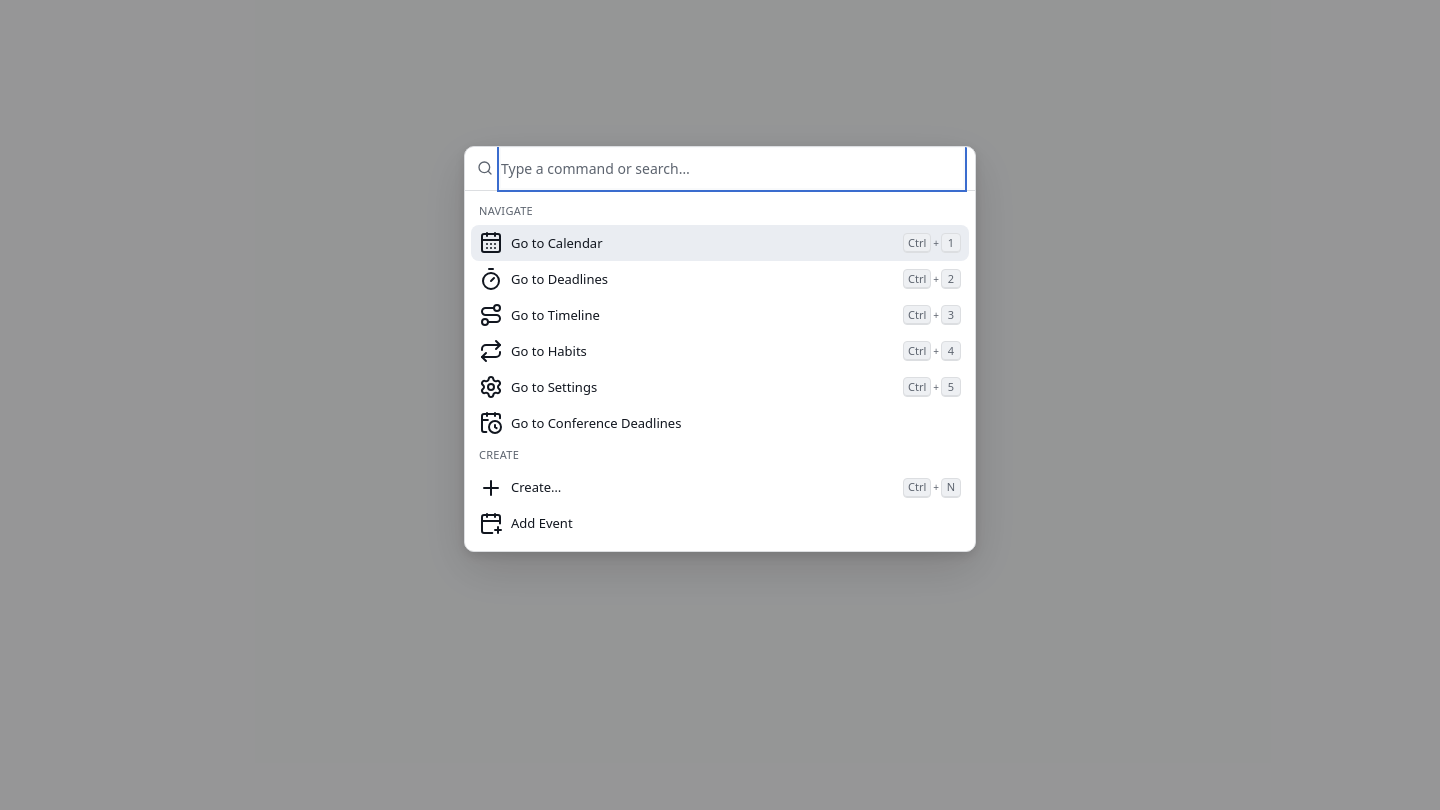
Test case: CommandPalette › filters commands by the typed query
In the dropdown: (732, 168) [501,148,963,188], type "habits"
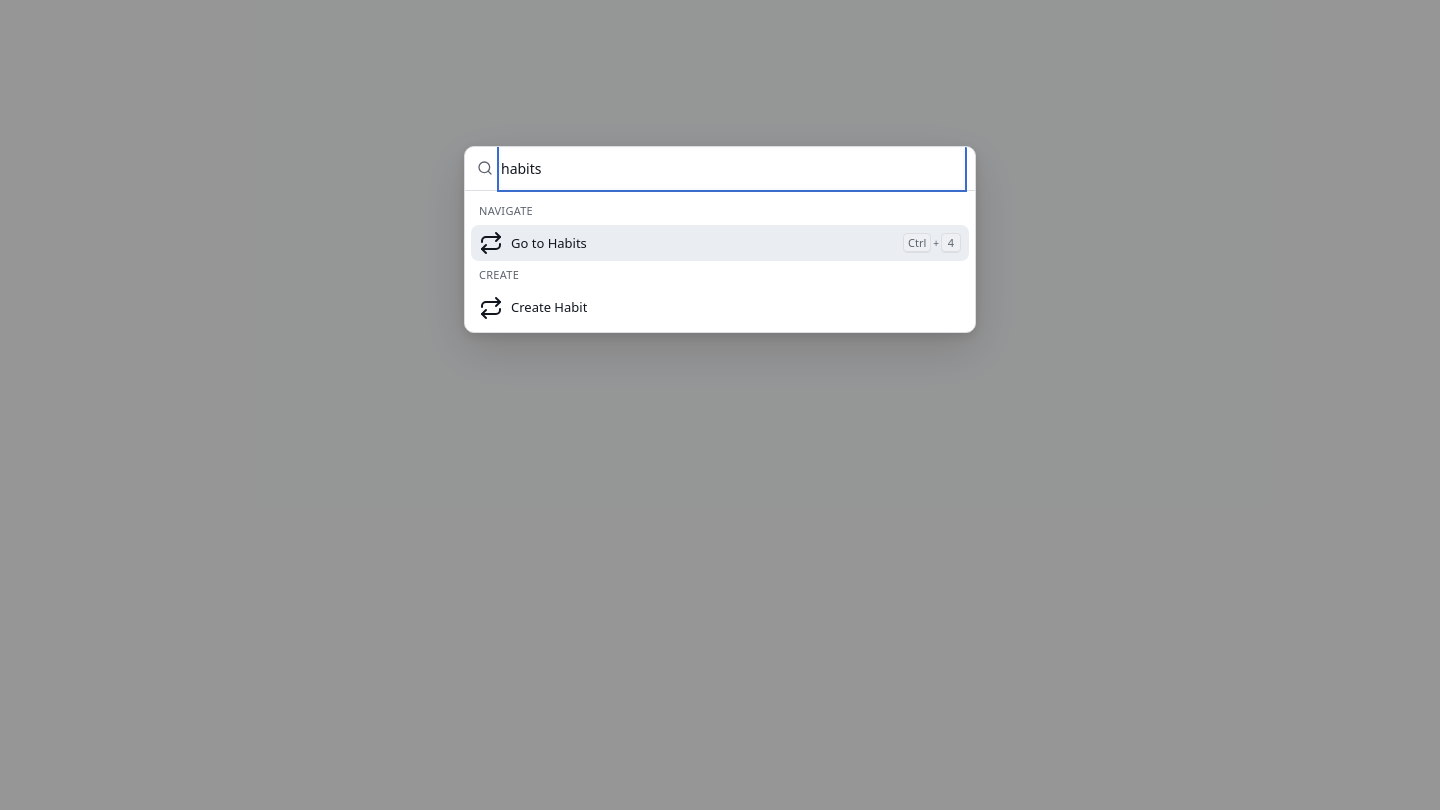
Expected: the text "Go to Habits" is shown, [511,234,587,253]
Expected: the option "Go to Timeline" is gone
